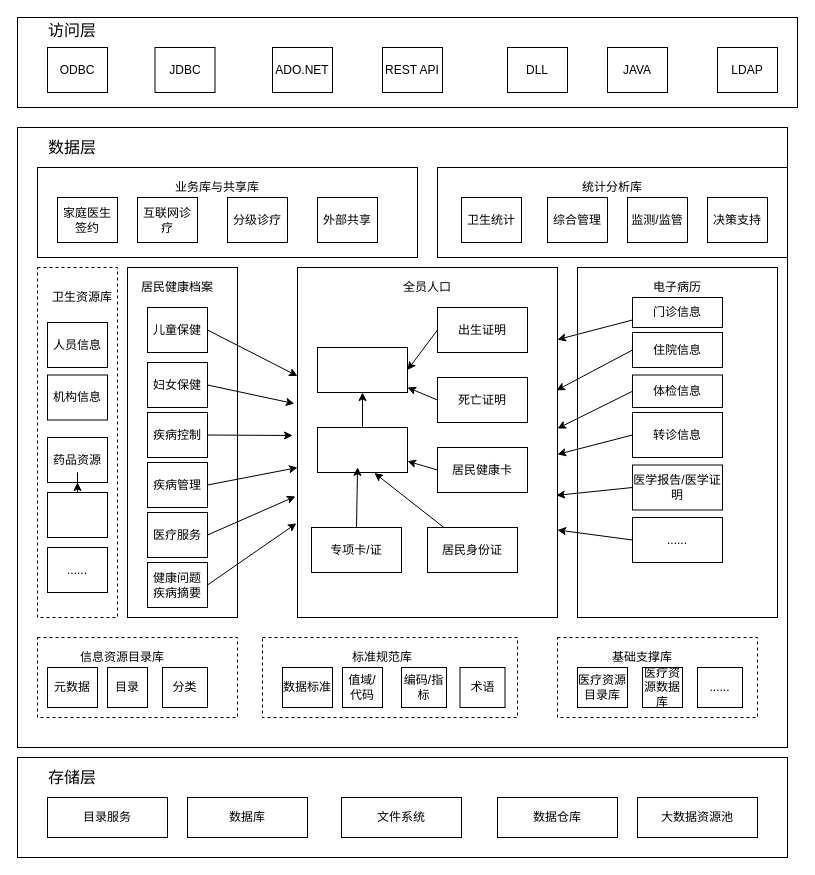
Some shapes in this 815 by 875 pixel diagram are drawn without their labels. The centre of each missing label's shape, as x and y in pixels:
"个人主索引" belongs at pixel 362 449.
"个人基本信息" belongs at pixel 362 369.
"设备资源" belongs at pixel 77 515.
